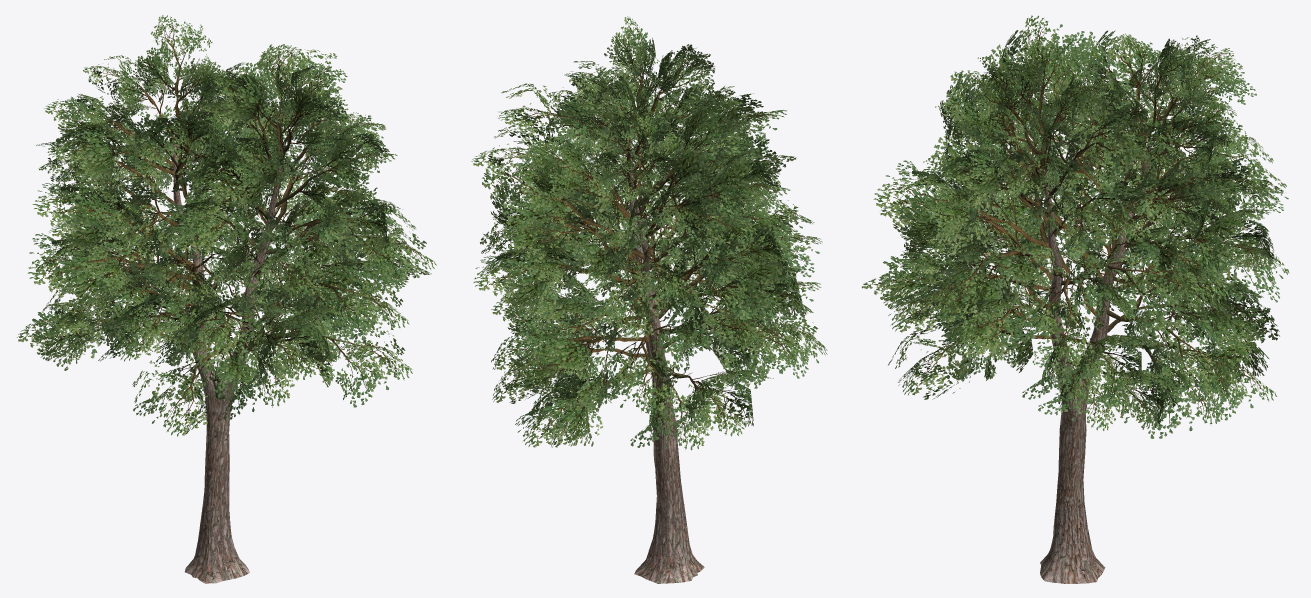
Rendered from wutong04.gltf.
The picture shows the model from 3 angles, left to right: view 1: azimuth 30°, elevation 25°; view 2: azimuth 150°, elevation 25°; view 3: azimuth 270°, elevation 25°; orthographic projection. The views are drawn at different scales.
Visible parts, largest first — view 1: 梧桐树04; view 2: 梧桐树04; view 3: 梧桐树04.
Part boxes in pixels (left/top/right/bottom): 梧桐树04: left=17, top=15, right=436, bottom=583; 梧桐树04: left=471, top=16, right=827, bottom=583; 梧桐树04: left=862, top=15, right=1289, bottom=583.
Bounding box in the file's own units: 4.83 × 6.62 × 4.83.
2 materials, 2 textured.
